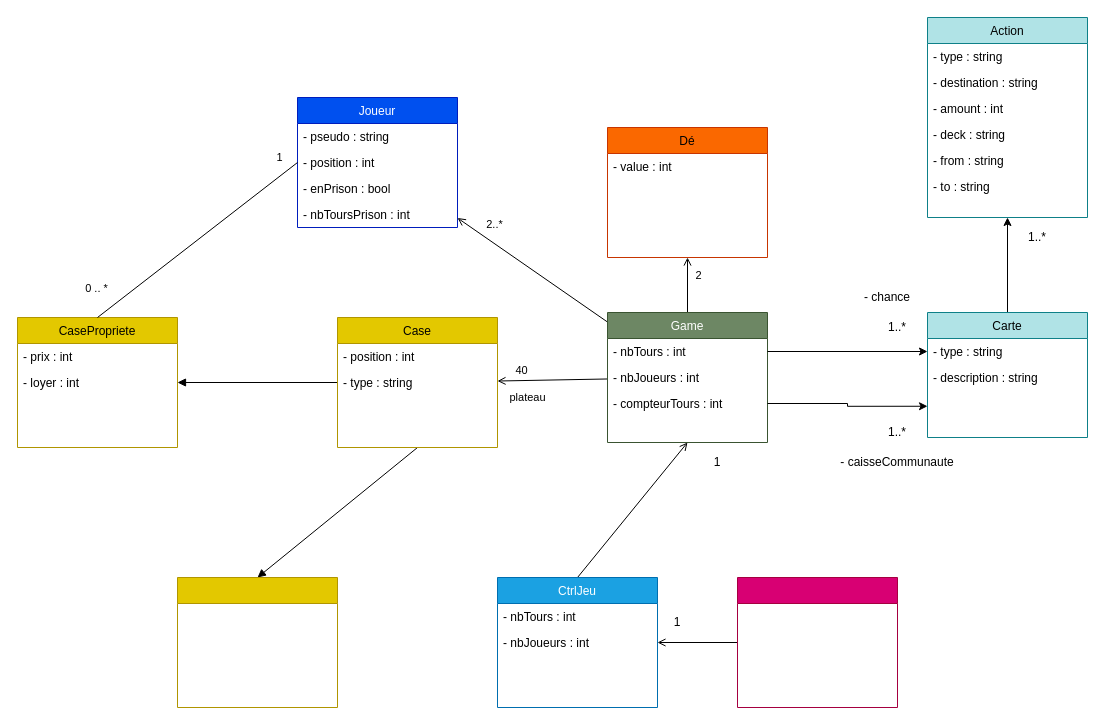
Image size: 1105x725. Some labels were removed from this diagram. The centre of each missing label's shape, as x and y in pixels:
CaseSpeciale: [257,642]
IHM: [817,642]
